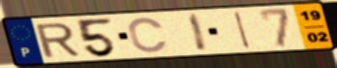5: (73, 17, 118, 58)
7: (257, 7, 292, 50)
C: (127, 16, 171, 54)
I: (187, 12, 210, 52), (232, 10, 253, 50)
R: (33, 21, 83, 59)
